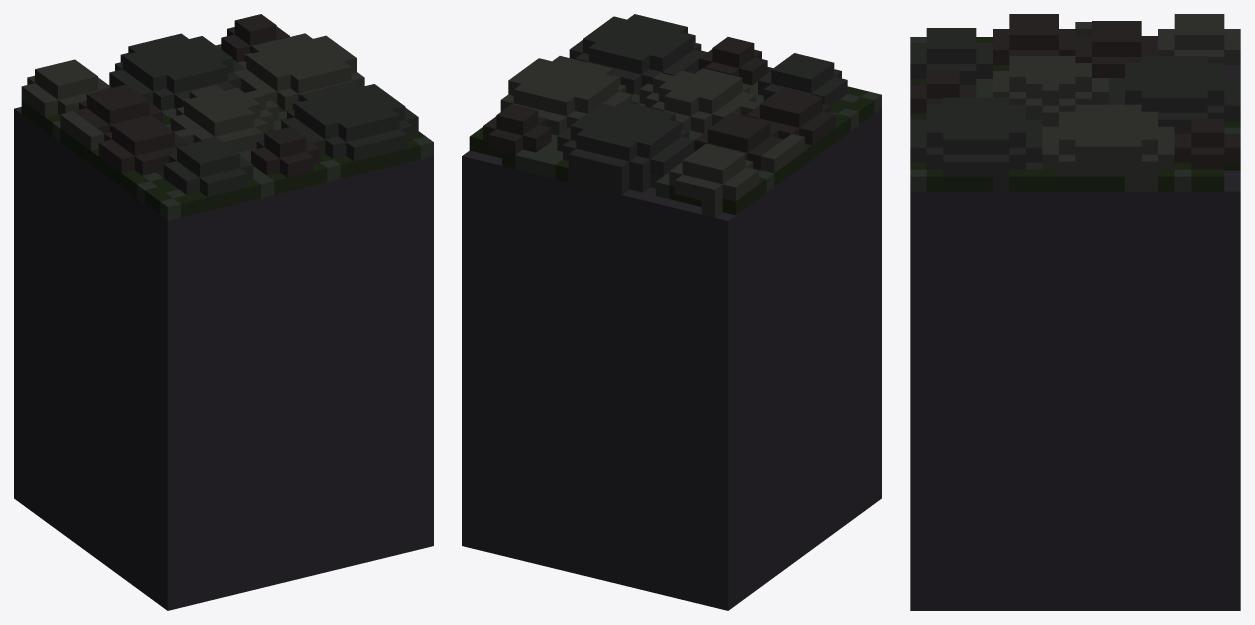
Rendered from block_Floor.glb.
The picture shows the model from 3 angles, left to right: view 1: azimuth 30°, elevation 25°; view 2: azimuth 150°, elevation 25°; view 3: azimuth 270°, elevation 25°; orthographic projection. The views are drawn at different scales.
Visible parts, largest first — view 1: block_Floor; view 2: block_Floor; view 3: block_Floor.
Boxes of the visible parts, bbox=[...] form: block_Floor: bbox=[14, 14, 433, 610]; block_Floor: bbox=[462, 14, 881, 610]; block_Floor: bbox=[910, 14, 1240, 610].
Size of the model in its own units: 2 by 3.1 by 2.
Materials: 1 (1 with a texture image).
